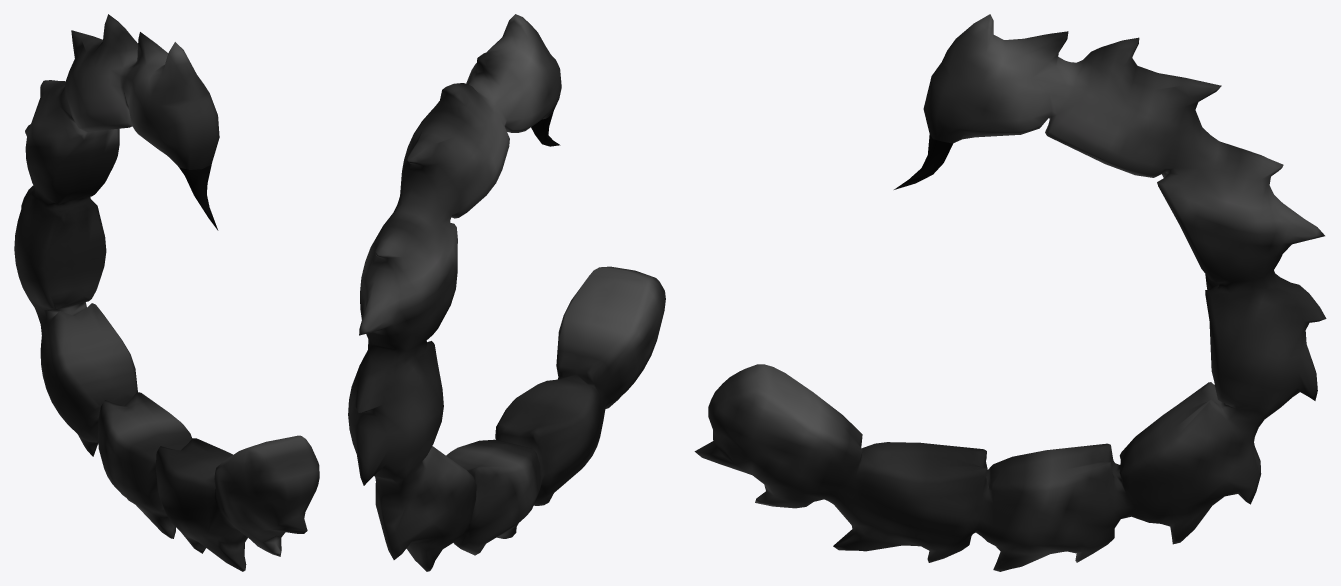
File: scorpiontail-lite.glb
3 views of the same model, side by side, from view 1: azimuth 30°, elevation 25°; view 2: azimuth 150°, elevation 25°; view 3: azimuth 270°, elevation 25° (orthographic). The views are drawn at different scales.
Visible parts, largest first — view 1: scorpiontail_0; view 2: scorpiontail_0; view 3: scorpiontail_0.
Part boxes in pixels (x1,y1,x2,y2): scorpiontail_0: (14, 14, 319, 571); scorpiontail_0: (348, 14, 665, 571); scorpiontail_0: (694, 14, 1326, 571).
Bounding box in the file's own units: 0.1342 × 0.8668 × 0.89.
Materials: 1 (1 with a texture image).
